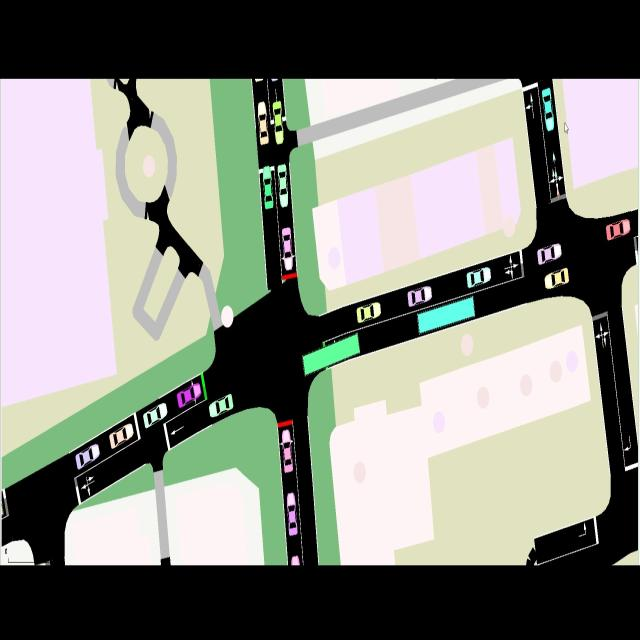vehicle: (304, 334, 360, 376), (416, 296, 476, 335), (109, 421, 134, 449), (407, 283, 433, 309), (75, 445, 101, 471), (177, 381, 202, 408), (281, 430, 295, 475), (356, 301, 382, 325), (285, 491, 298, 538), (209, 394, 234, 418), (542, 87, 555, 133), (144, 401, 168, 425), (466, 266, 492, 288), (543, 267, 569, 289), (282, 226, 294, 272), (258, 101, 270, 146), (277, 164, 289, 208), (537, 244, 562, 265), (606, 218, 631, 239), (272, 102, 284, 145), (263, 167, 273, 210)
